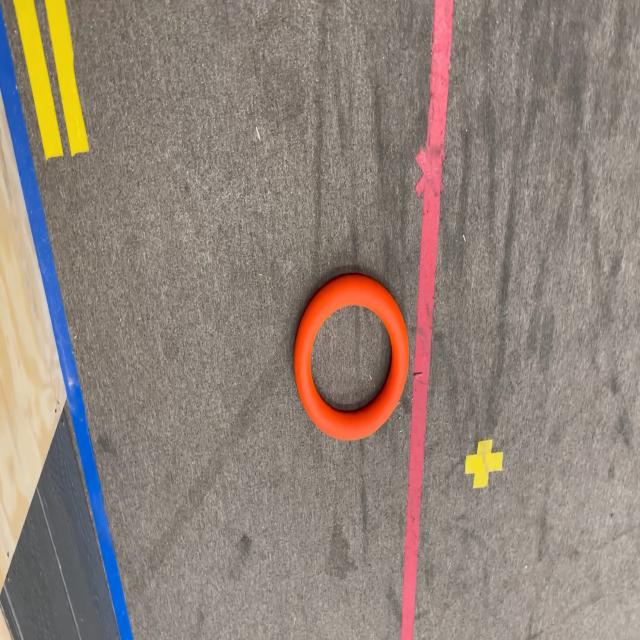note: (293, 274, 409, 440)
